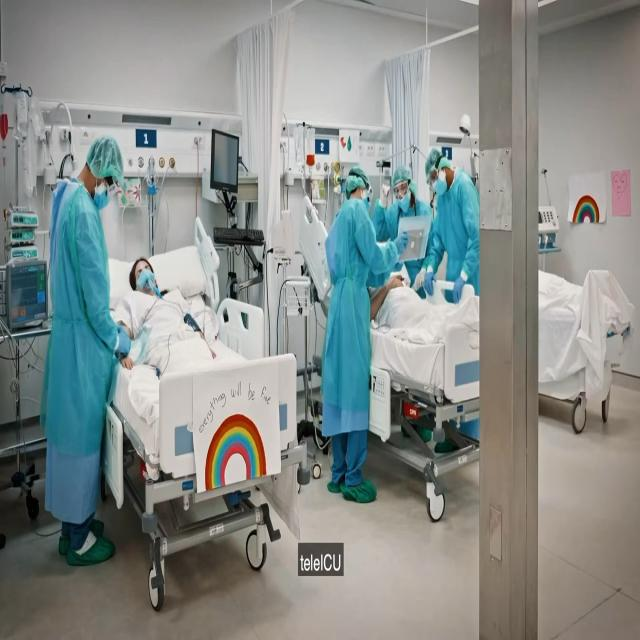Doctor: (41, 140, 130, 569), (324, 166, 386, 492), (422, 142, 480, 278)
Nurse: (387, 163, 424, 231)
Patient: (116, 230, 198, 357)
